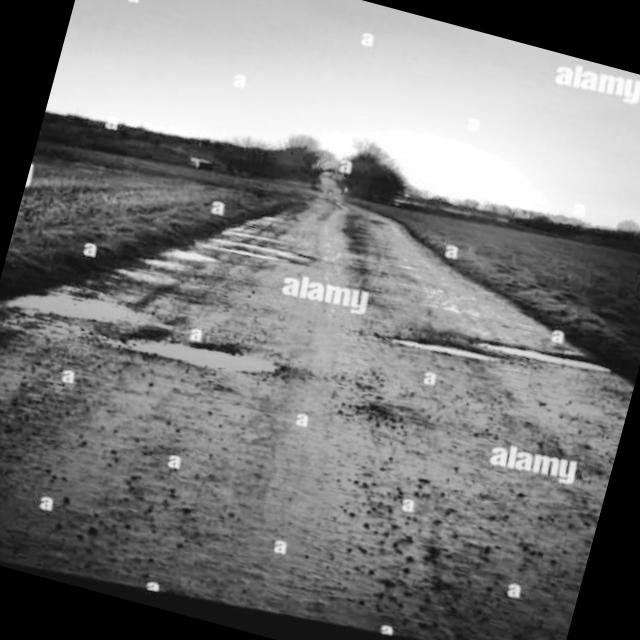Pothole: (142, 307, 288, 407), (479, 316, 626, 396), (11, 268, 130, 340), (368, 308, 470, 372), (126, 232, 212, 298), (213, 219, 300, 270)
